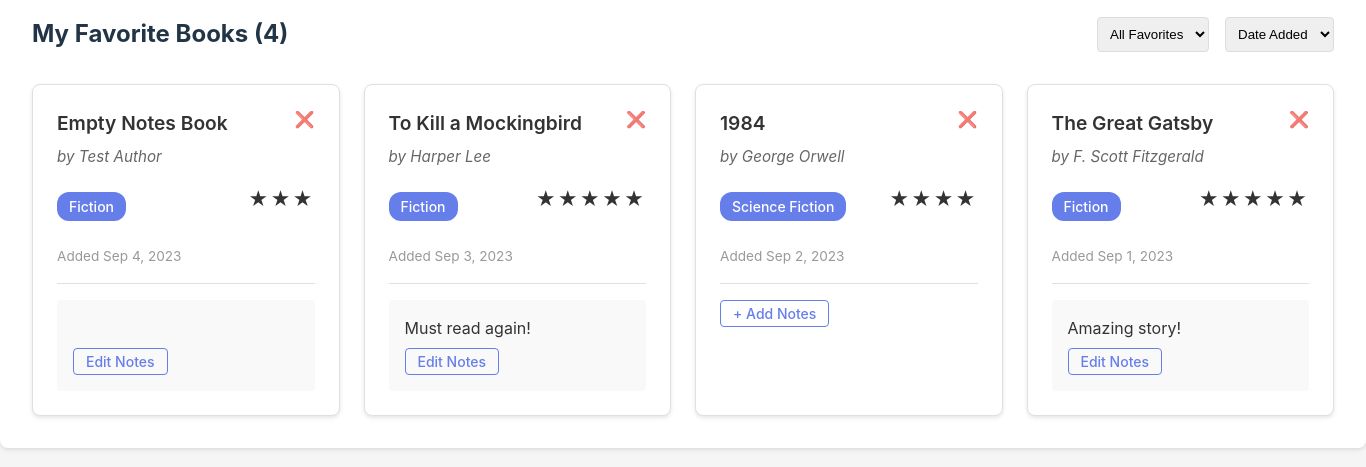
Test: FavoritesList › filters out favorites with empty string notes when filter is with-notes
The image size is (1366, 467).
Select "With Notes" in the 1st dropdown. click: point(1153, 34)
box: [1097,16,1209,52]
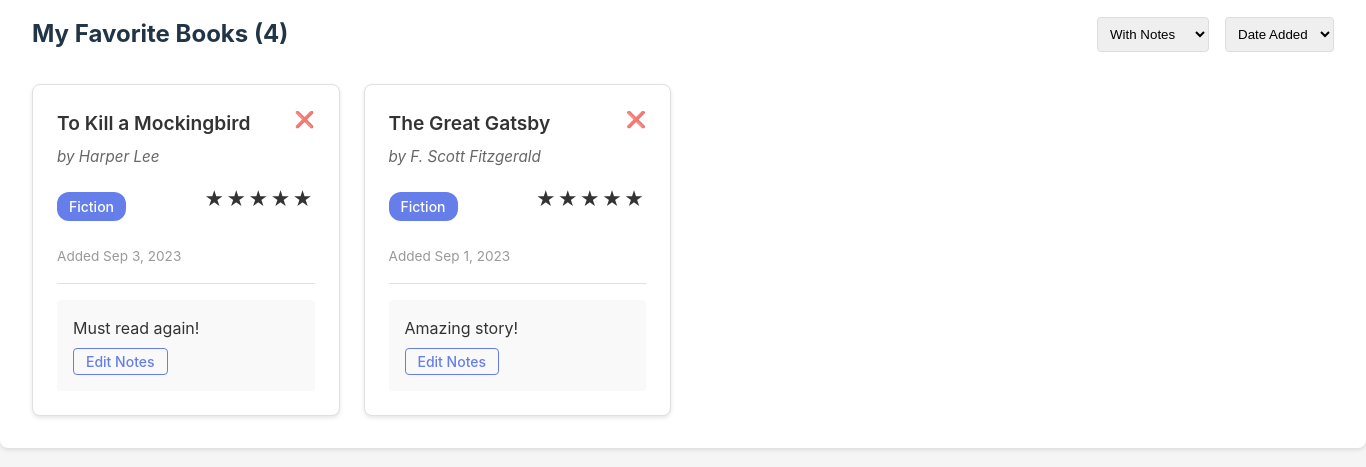
Expected: the heading "The Great Gatsby" is shown, [388,109,550,138]
Expected: the heading "Empty Notes Book" is gone
